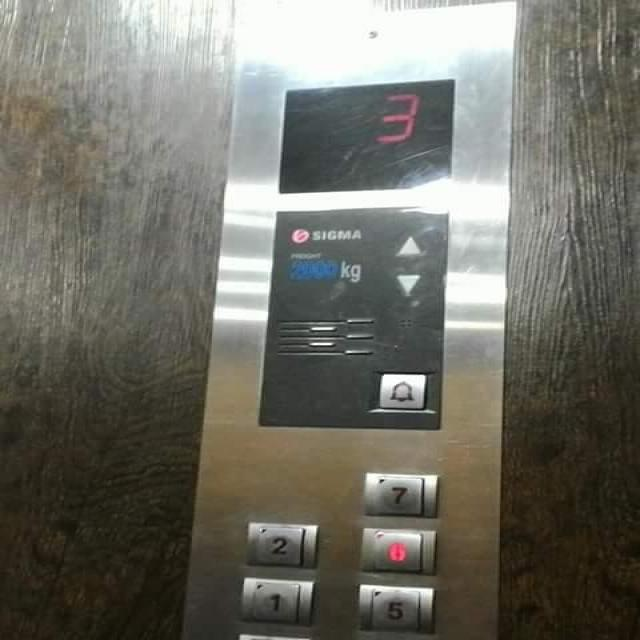1: (238, 572, 318, 627)
2: (243, 519, 320, 570)
5: (353, 580, 438, 637)
6: (356, 523, 437, 576)
7: (360, 468, 439, 517)
alarm: (371, 368, 432, 414)
led: (274, 75, 458, 195)
